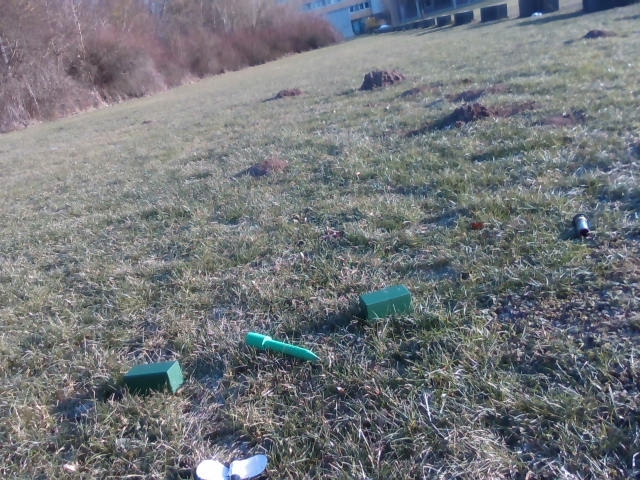Probe: (243, 331, 323, 360)
